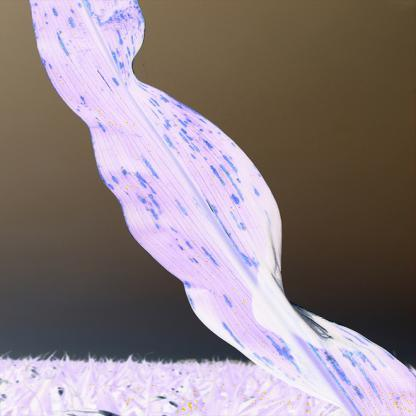Corn leaf blight: (30, 1, 411, 411)
